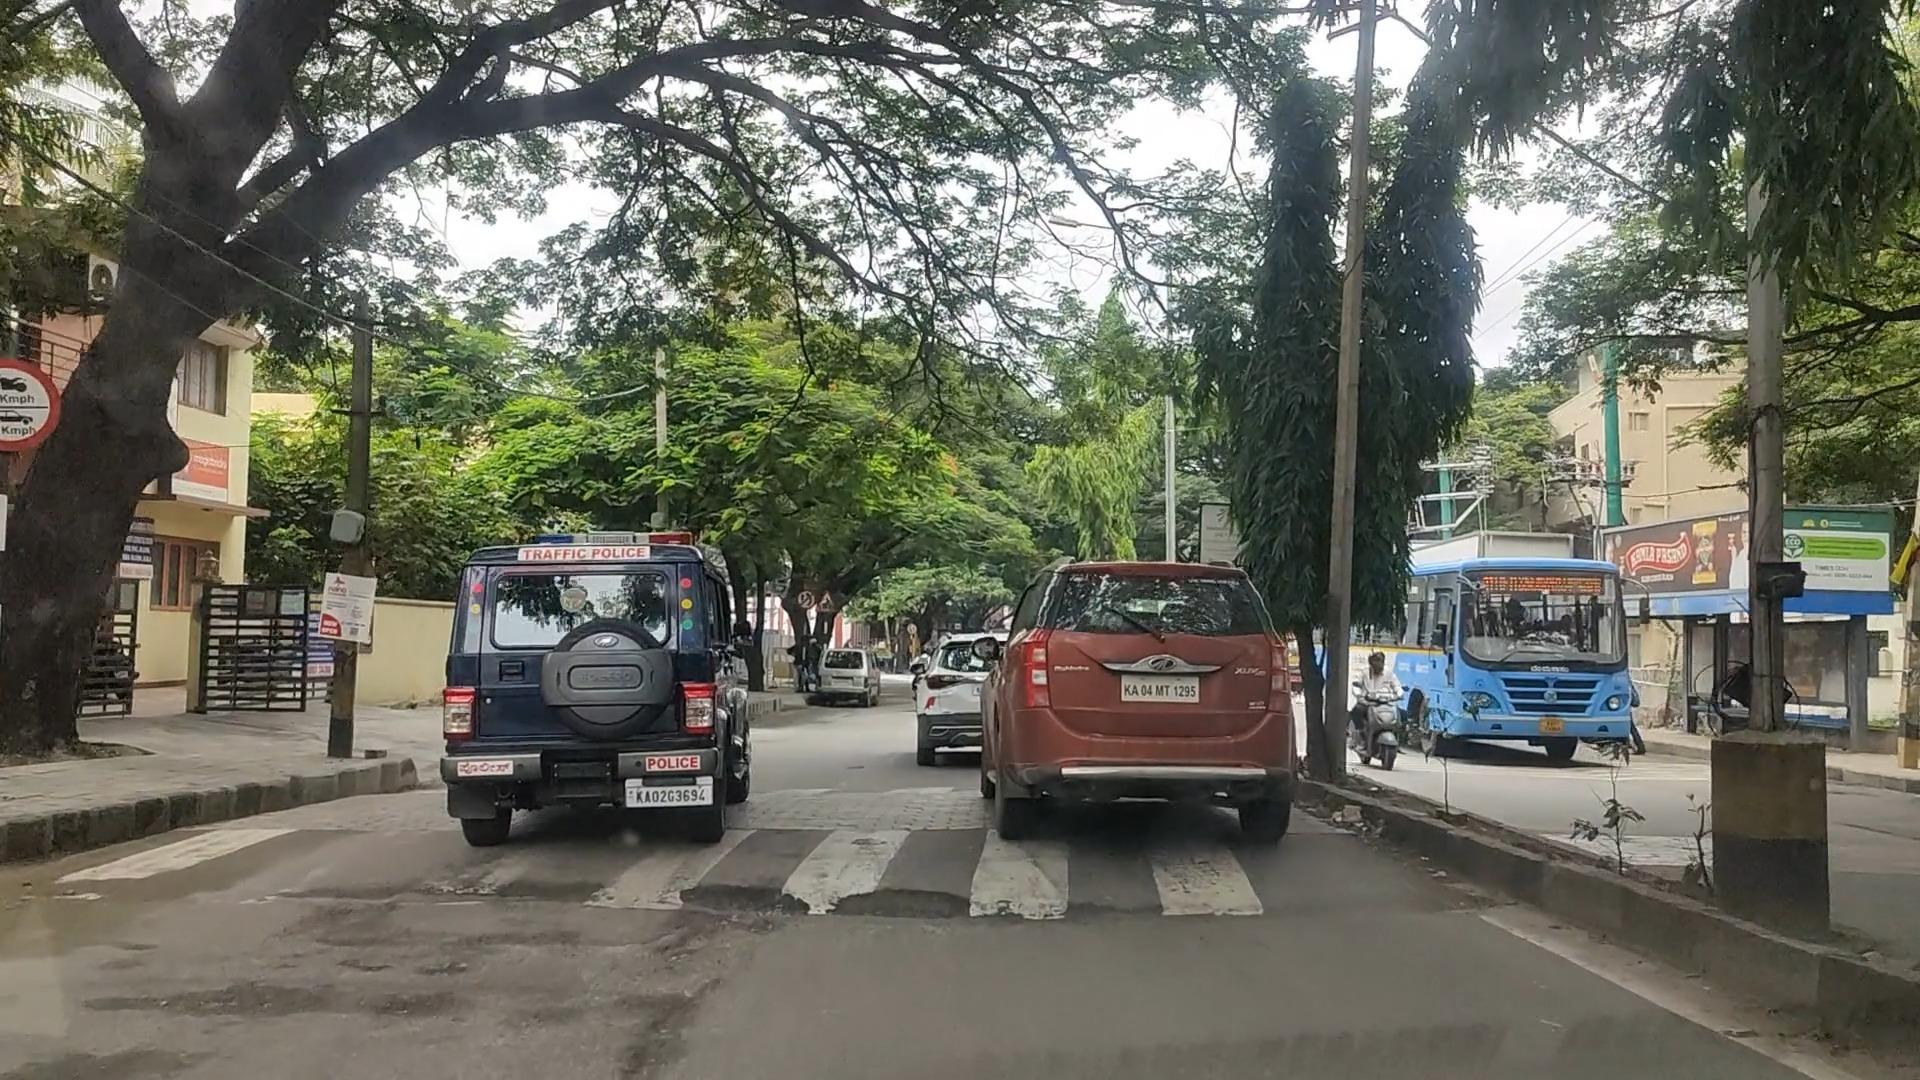LMV: (447, 542, 723, 818), (1015, 564, 1298, 812)
RoadDamages: (145, 971, 435, 1035), (595, 982, 723, 1080), (678, 877, 820, 932), (835, 882, 993, 930), (37, 1044, 210, 1080)
SpeedBump: (178, 818, 1365, 915)
